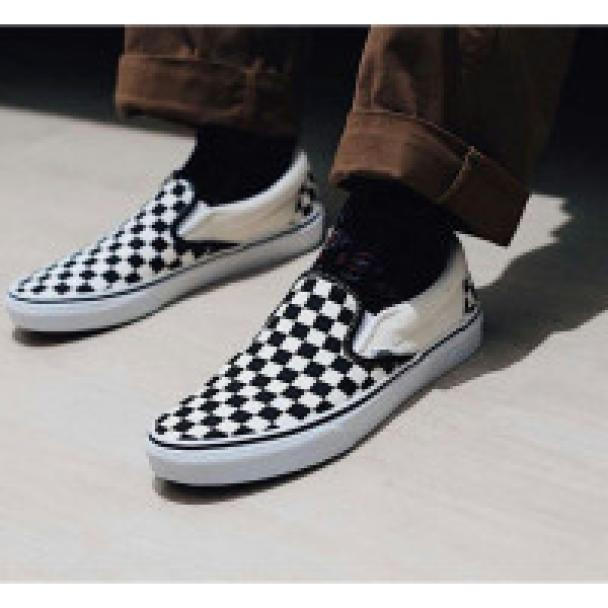Sepatu: (67, 197, 559, 556), (0, 103, 343, 372)
